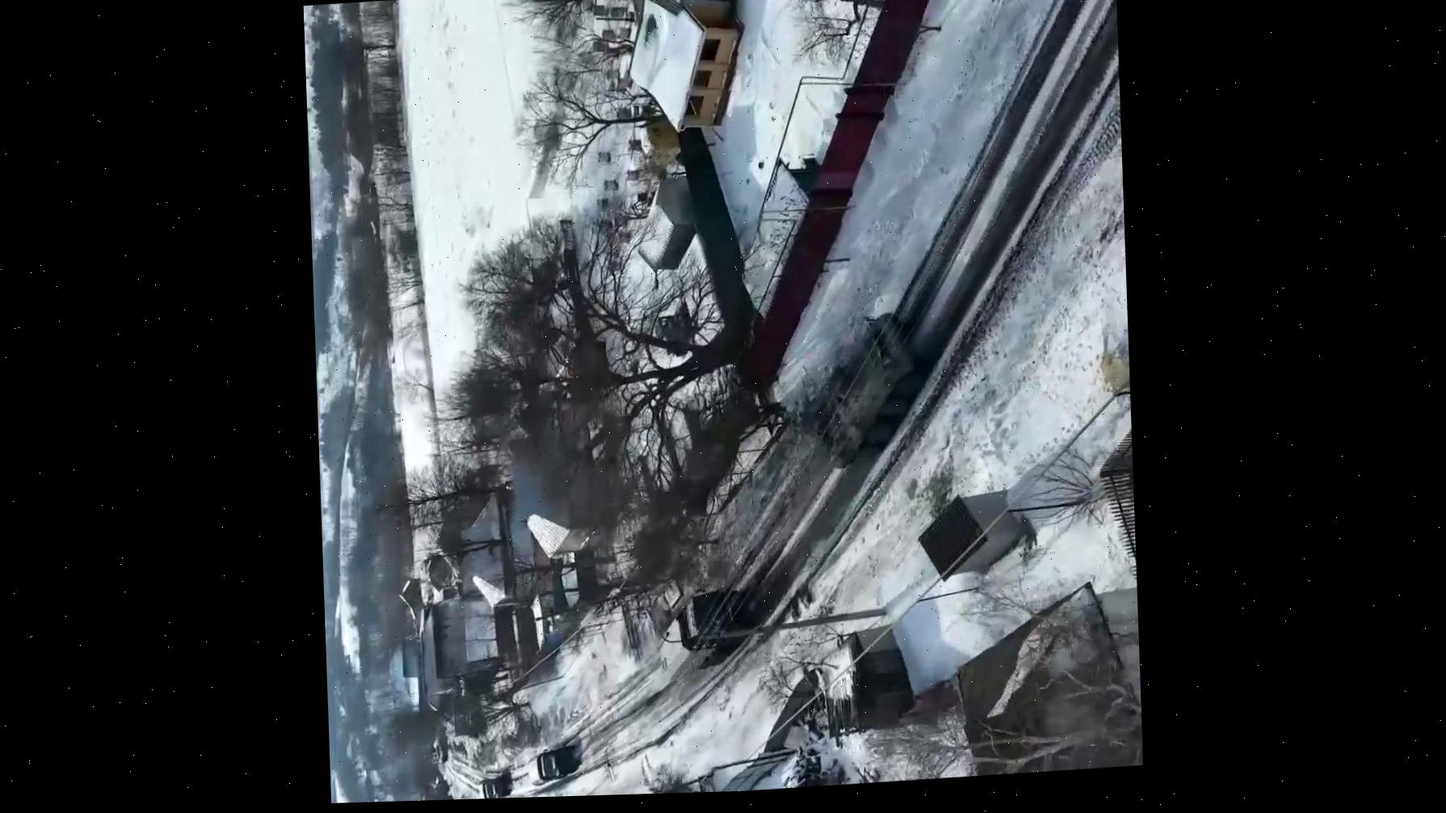tank: (811, 310, 928, 472)
truck: (655, 583, 750, 682), (527, 744, 572, 787), (477, 776, 507, 799)
